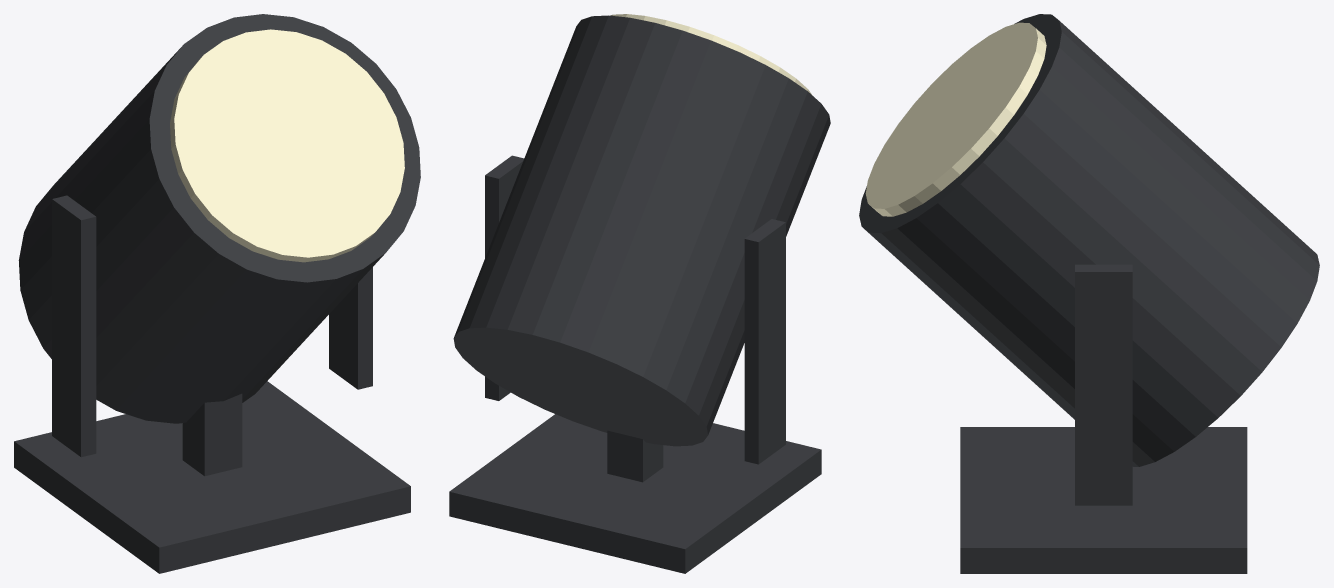
3 renders of one model, left to right at view 1: azimuth 30°, elevation 25°; view 2: azimuth 150°, elevation 25°; view 3: azimuth 270°, elevation 25°, orthographic. The views are drawn at different scales.
Visible parts, largest first — view 1: baseOffset=0;depth=0.15;height=0.15;material=luminaire;power (×2); view 2: baseOffset=0;depth=0.15;height=0.15;material=luminaire;power (×2); view 3: baseOffset=0;depth=0.15;height=0.15;material=luminaire;power (×2).
Boxes of the visible parts, left/top/right/bottom form: baseOffset=0;depth=0.15;height=0.15;material=luminaire;power (×2): left=14, top=14, right=420, bottom=573; baseOffset=0;depth=0.15;height=0.15;material=luminaire;power (×2): left=449, top=14, right=830, bottom=573; baseOffset=0;depth=0.15;height=0.15;material=luminaire;power (×2): left=859, top=14, right=1319, bottom=573.
Bounding box in the file's own units: 0.232 × 0.3214 × 0.3707.
